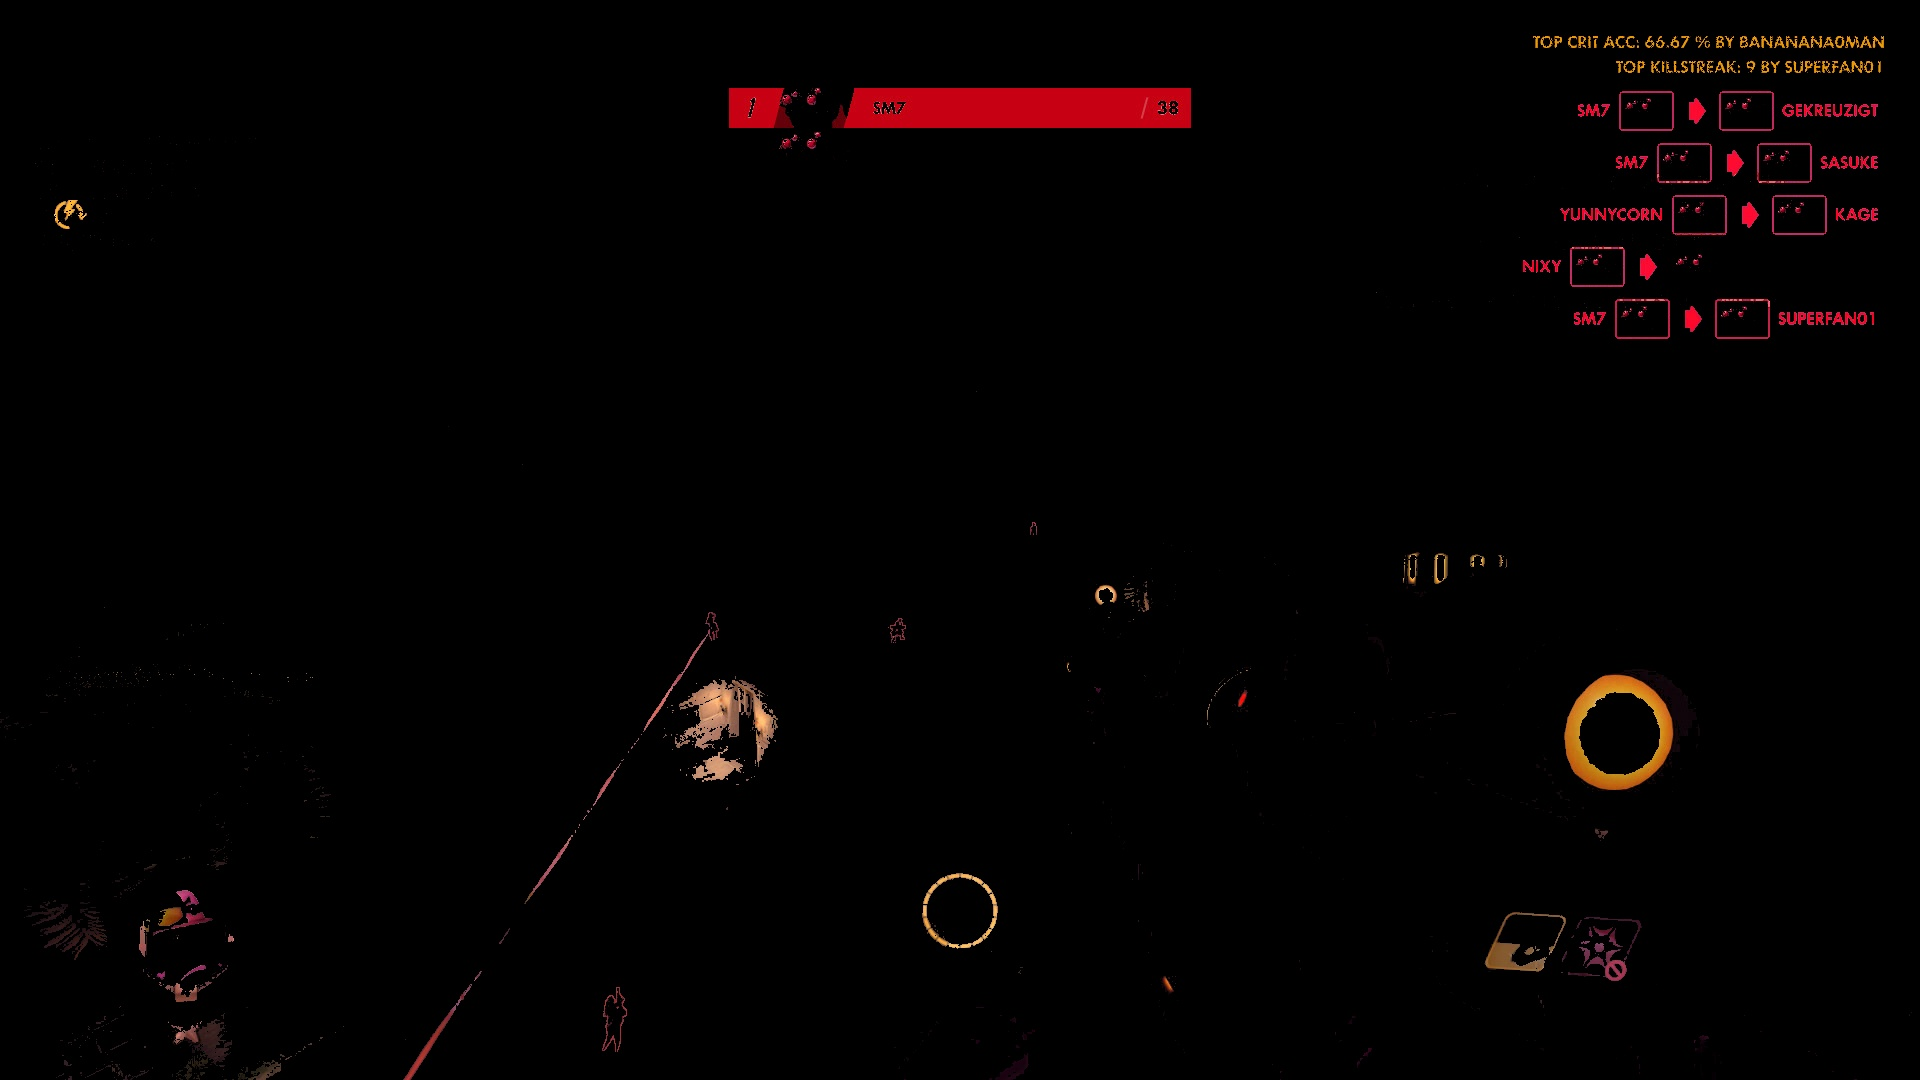widowmaker: (600, 993, 629, 1055), (887, 615, 909, 646), (705, 611, 721, 641), (1027, 517, 1040, 538)
